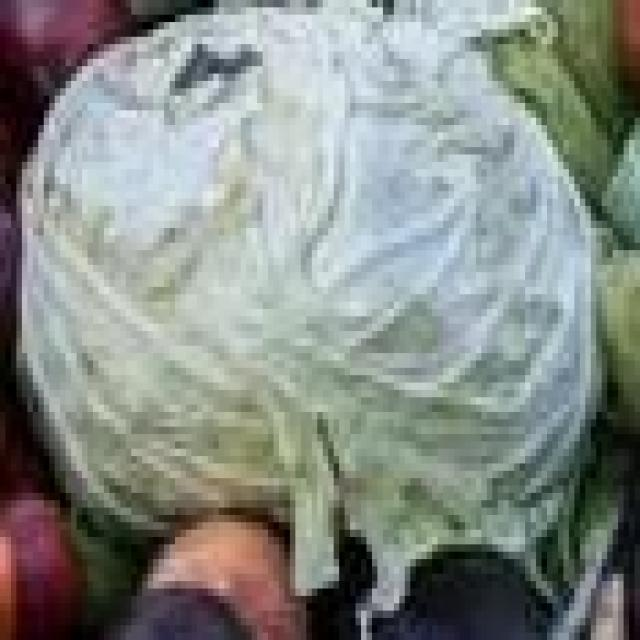food waste: (1, 0, 593, 633)
